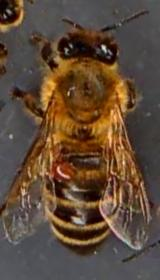varroa_mite: (50, 157, 80, 186)
